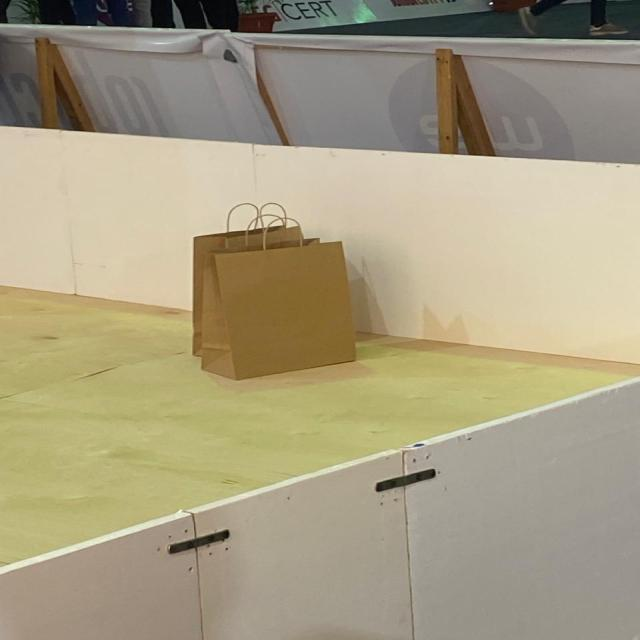Kardus: (190, 200, 357, 380)
